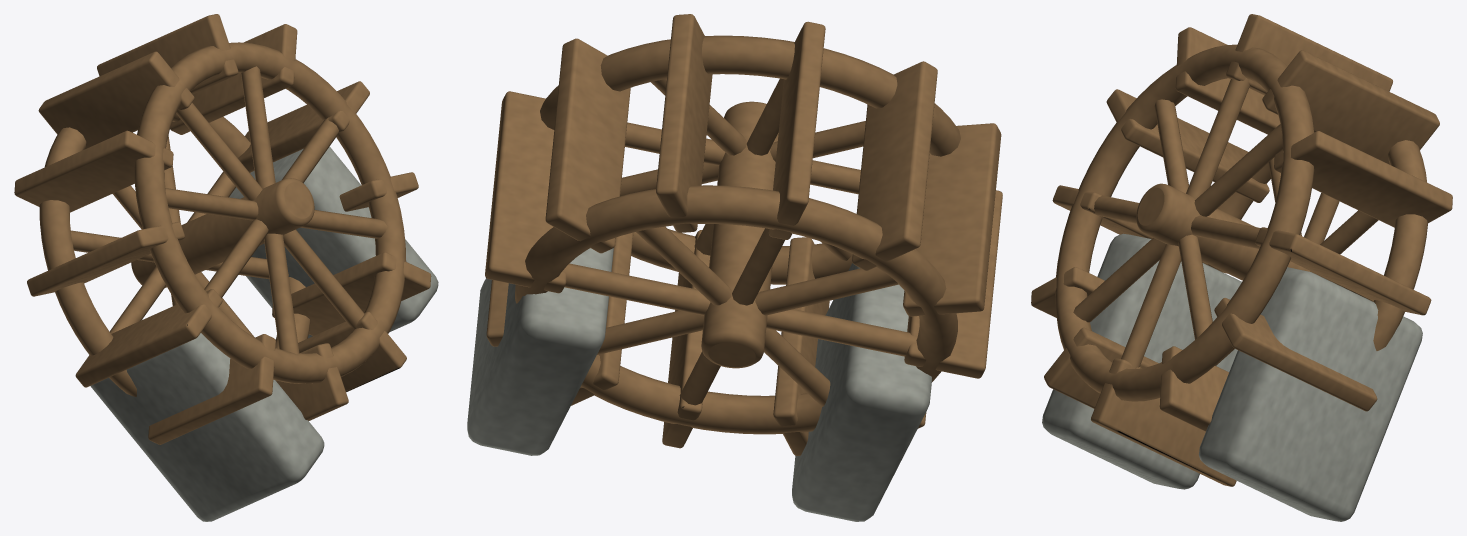
The picture shows the model from 3 angles, left to right: view 1: azimuth 30°, elevation 25°; view 2: azimuth 150°, elevation 25°; view 3: azimuth 270°, elevation 25°; orthographic projection. The views are drawn at different scales.
Parts seen in each view (by area): view 1: Stone wheel support pier; view 2: Stone wheel support pier; view 3: Stone wheel support pier.
Boxes of the visible parts, bbox=[...] form: Stone wheel support pier: bbox=[14, 14, 438, 521]; Stone wheel support pier: bbox=[467, 14, 1002, 521]; Stone wheel support pier: bbox=[1031, 14, 1452, 521].
Size of the model in its own units: 1.66 by 1.72 by 1.4.
Materials: 1 (1 with a texture image).
